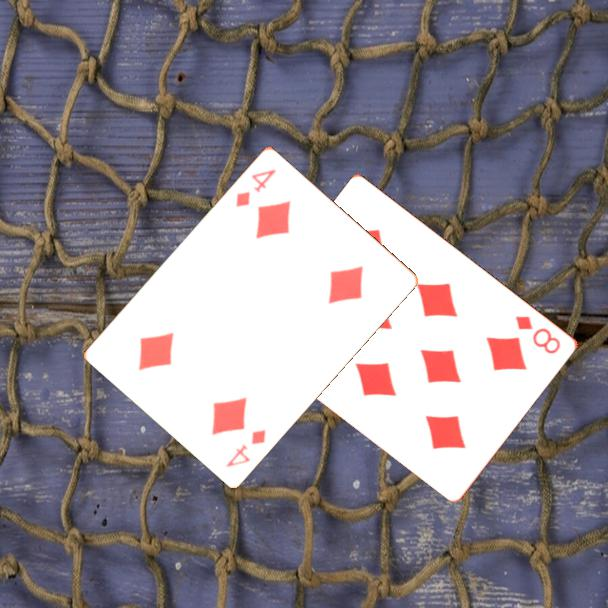d04: (232, 165, 279, 210), (222, 425, 269, 470)
d08: (512, 312, 564, 357)
